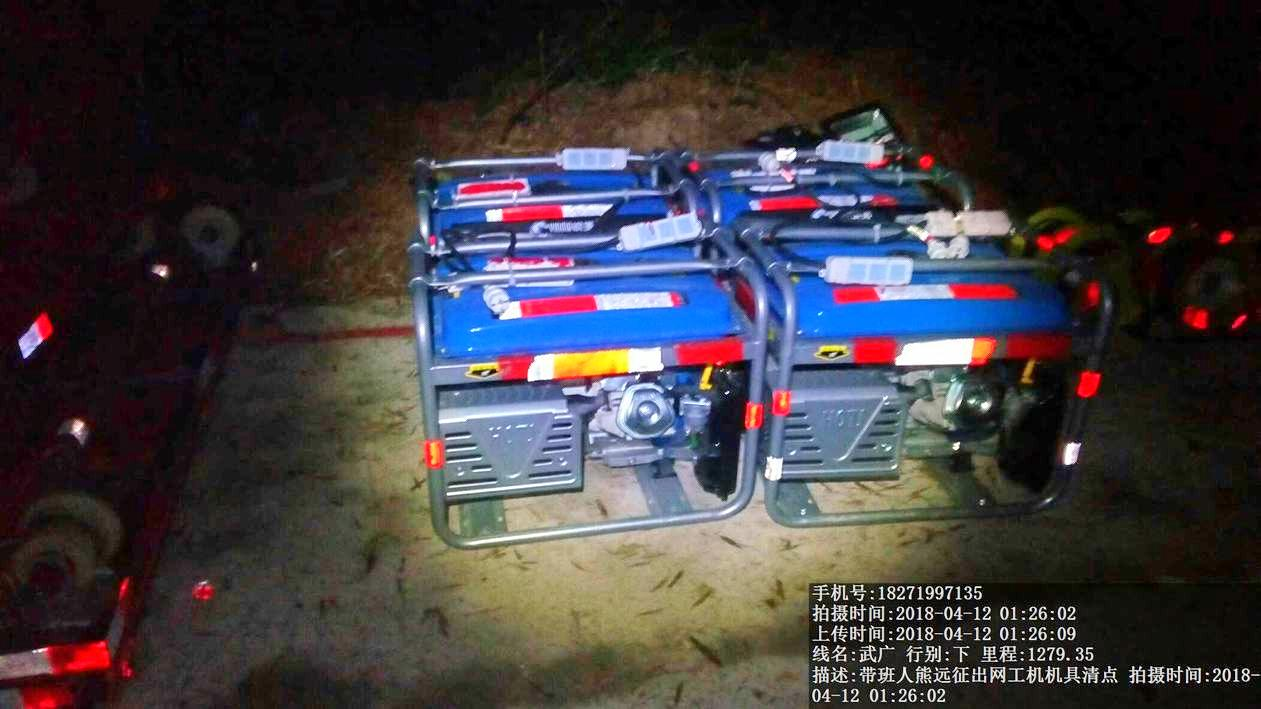DJ: (394, 235, 760, 546), (743, 215, 1106, 525), (390, 143, 712, 237), (688, 123, 989, 215)
